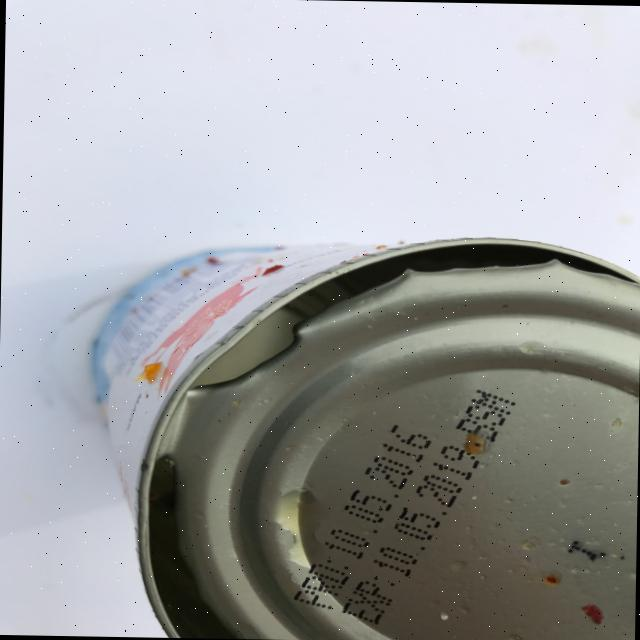metal: (84, 229, 640, 640)
